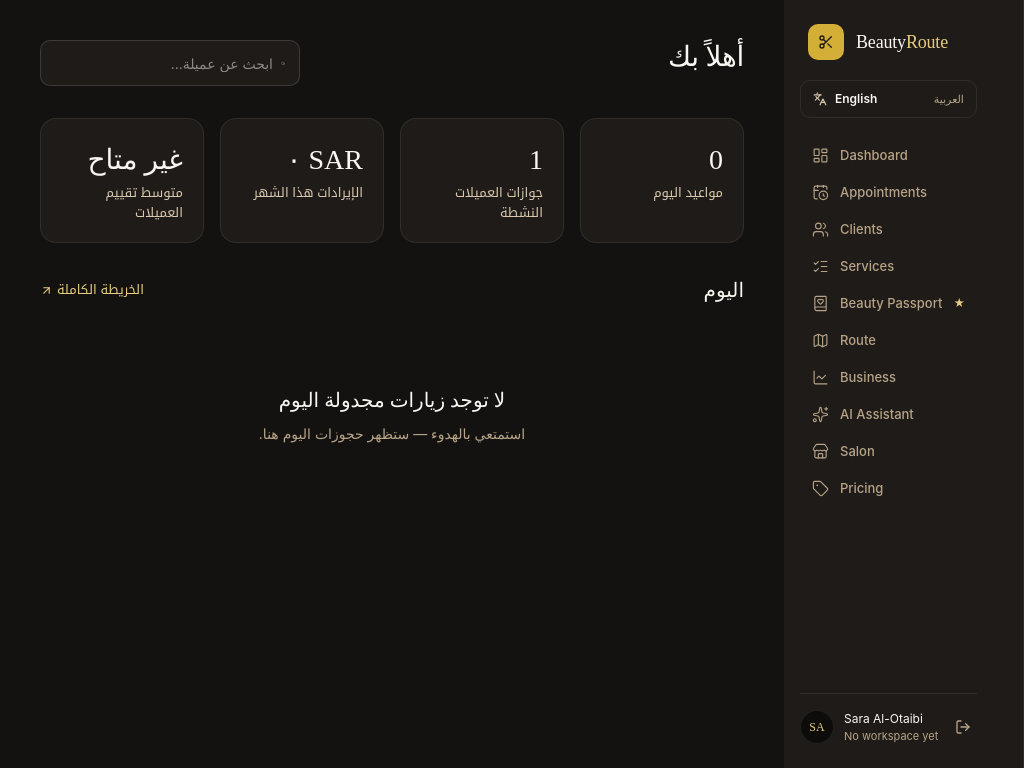
Test case: StylistDashboard page › localization › translates the search placeholder and empty-search message in Arabic mode too, not just the static chrome
Step 1. Type "zzz-no-match" into the field with placeholder "ابحث عن عميلة…" → [164, 63], box [55,52,273,74]
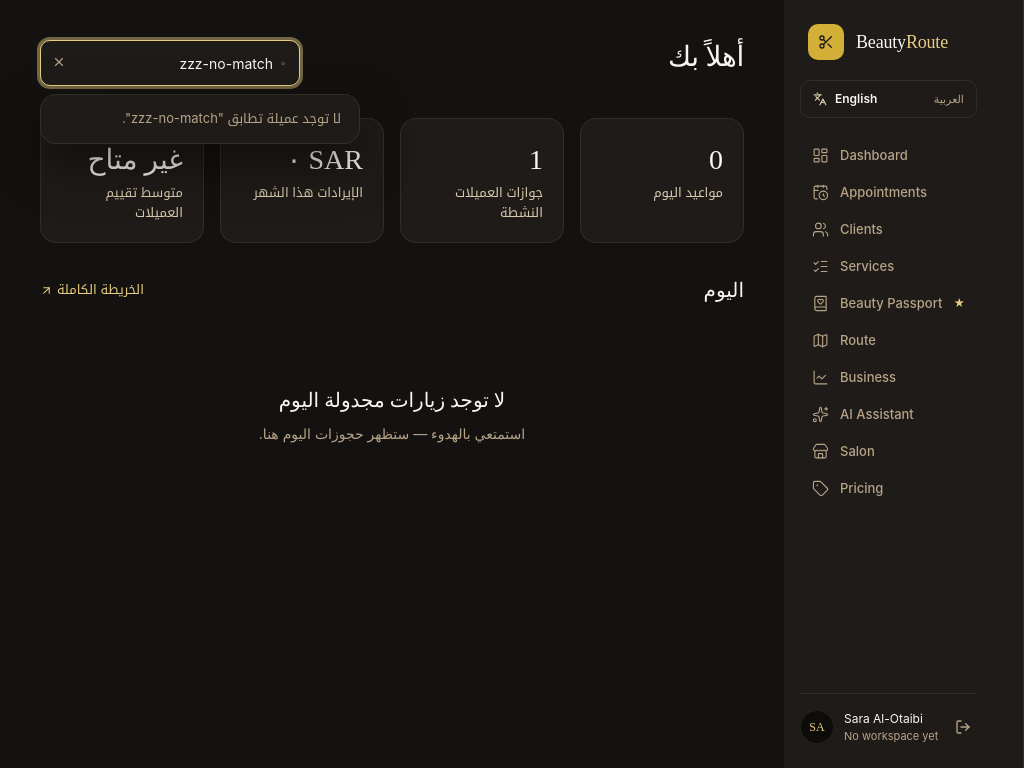
Now the text "لا توجد عميلة تطابق \"zzz-no-match\"." is shown, box [122,110,341,126]
